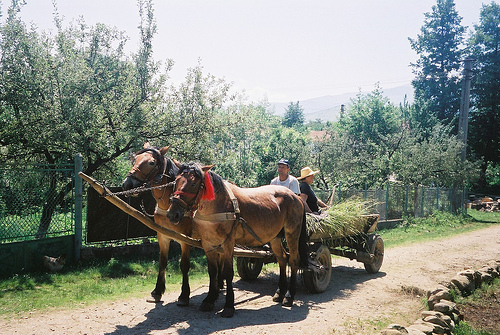horse: (166, 162, 307, 316), (117, 141, 226, 309)
